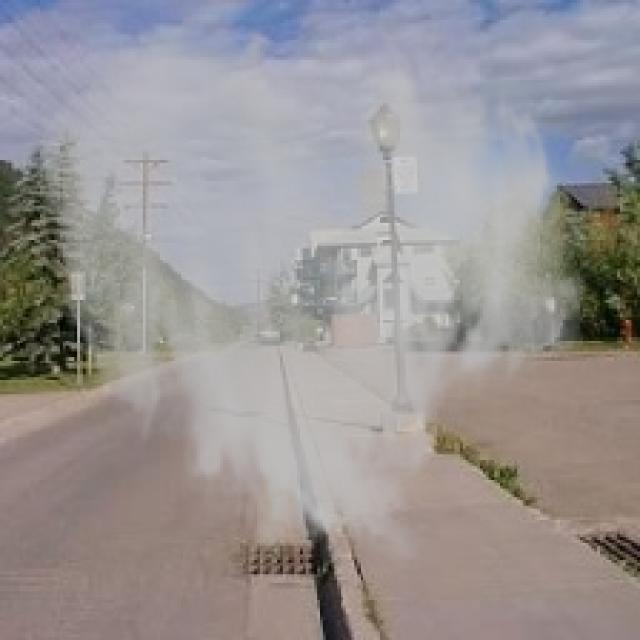smoke: (32, 9, 594, 572)
